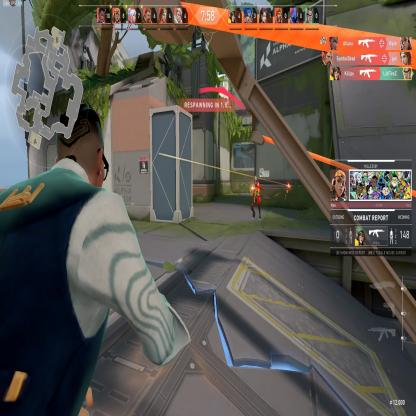enemy: (249, 174, 262, 221)
